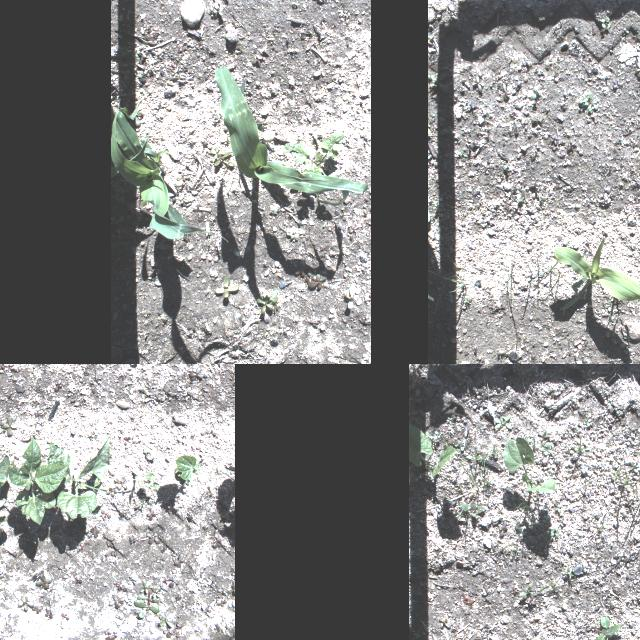crop: (214, 64, 370, 206), (110, 98, 214, 240), (551, 237, 640, 311), (46, 436, 110, 520), (9, 436, 68, 524), (504, 437, 556, 493), (408, 423, 458, 477), (0, 434, 11, 542), (174, 456, 202, 484)
weed: (282, 130, 346, 176), (443, 436, 483, 499), (464, 431, 498, 472), (429, 254, 465, 292), (487, 523, 523, 559), (556, 430, 600, 452), (611, 467, 640, 496), (295, 268, 327, 290), (594, 615, 620, 640), (134, 594, 160, 618), (214, 277, 240, 299), (258, 290, 280, 314), (459, 502, 485, 522), (536, 576, 566, 592), (502, 270, 514, 306), (474, 468, 496, 487), (578, 92, 598, 111), (214, 150, 234, 168), (0, 417, 18, 437), (344, 287, 360, 309), (515, 498, 531, 520), (530, 434, 548, 452), (189, 364, 205, 382), (494, 414, 512, 430), (592, 518, 608, 536), (18, 595, 34, 611), (135, 593, 159, 603), (36, 574, 52, 588), (109, 594, 125, 608), (518, 583, 534, 597), (208, 147, 226, 159), (114, 476, 128, 490), (166, 573, 180, 587), (538, 442, 552, 456), (560, 565, 574, 579), (174, 552, 186, 568), (516, 190, 530, 202), (160, 614, 174, 626), (141, 580, 153, 594), (146, 532, 160, 544), (133, 110, 143, 126), (150, 586, 162, 598), (163, 625, 175, 637), (213, 2, 223, 16), (476, 76, 484, 92), (428, 74, 437, 88), (600, 17, 610, 29), (146, 508, 156, 520), (88, 527, 100, 537), (218, 585, 230, 595), (548, 526, 560, 536), (538, 431, 550, 441), (438, 618, 450, 628), (175, 194, 188, 203), (504, 85, 511, 101), (530, 86, 538, 100), (106, 488, 118, 497), (136, 498, 146, 508), (629, 462, 639, 472), (176, 173, 190, 180), (456, 150, 468, 158), (46, 608, 54, 620), (554, 501, 562, 513), (108, 630, 119, 638), (137, 70, 147, 78), (536, 194, 546, 202), (582, 418, 590, 428), (635, 61, 640, 76), (606, 300, 612, 312), (428, 432, 440, 438), (102, 509, 112, 516), (258, 122, 268, 128), (313, 135, 319, 145), (142, 448, 152, 454), (32, 606, 42, 612), (216, 624, 222, 634), (457, 440, 463, 450), (230, 583, 234, 597), (134, 54, 140, 62), (216, 110, 222, 118), (428, 294, 434, 302), (622, 28, 630, 34), (463, 296, 469, 304), (149, 59, 153, 69), (141, 386, 147, 392), (446, 418, 452, 424), (290, 234, 298, 238), (269, 208, 277, 212), (610, 318, 616, 322), (428, 210, 430, 222), (62, 614, 68, 618), (428, 196, 430, 206)
